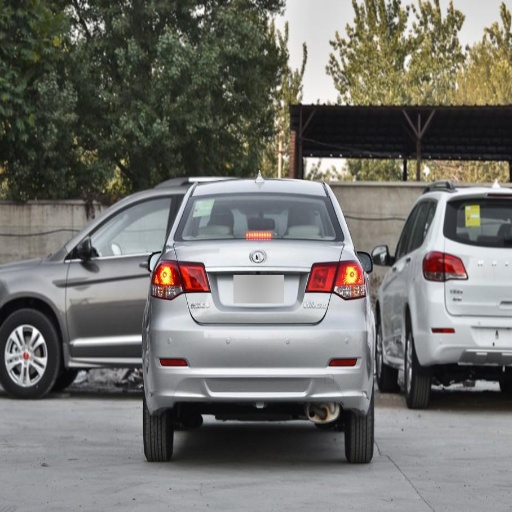back_bumper: (146, 292, 384, 422), (393, 289, 510, 366)
tailgate: (171, 240, 340, 325)
trunk: (428, 244, 510, 334)
